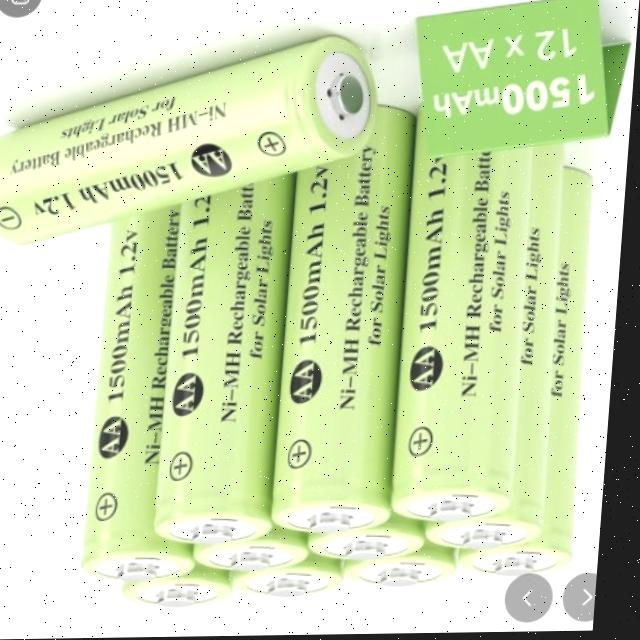battery: (0, 34, 403, 248), (385, 98, 548, 520), (153, 110, 304, 544), (76, 153, 225, 584), (270, 105, 418, 530)
